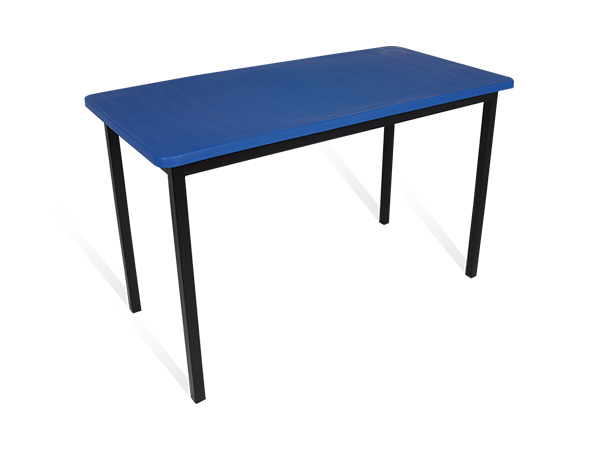m01: (84, 45, 515, 404)
